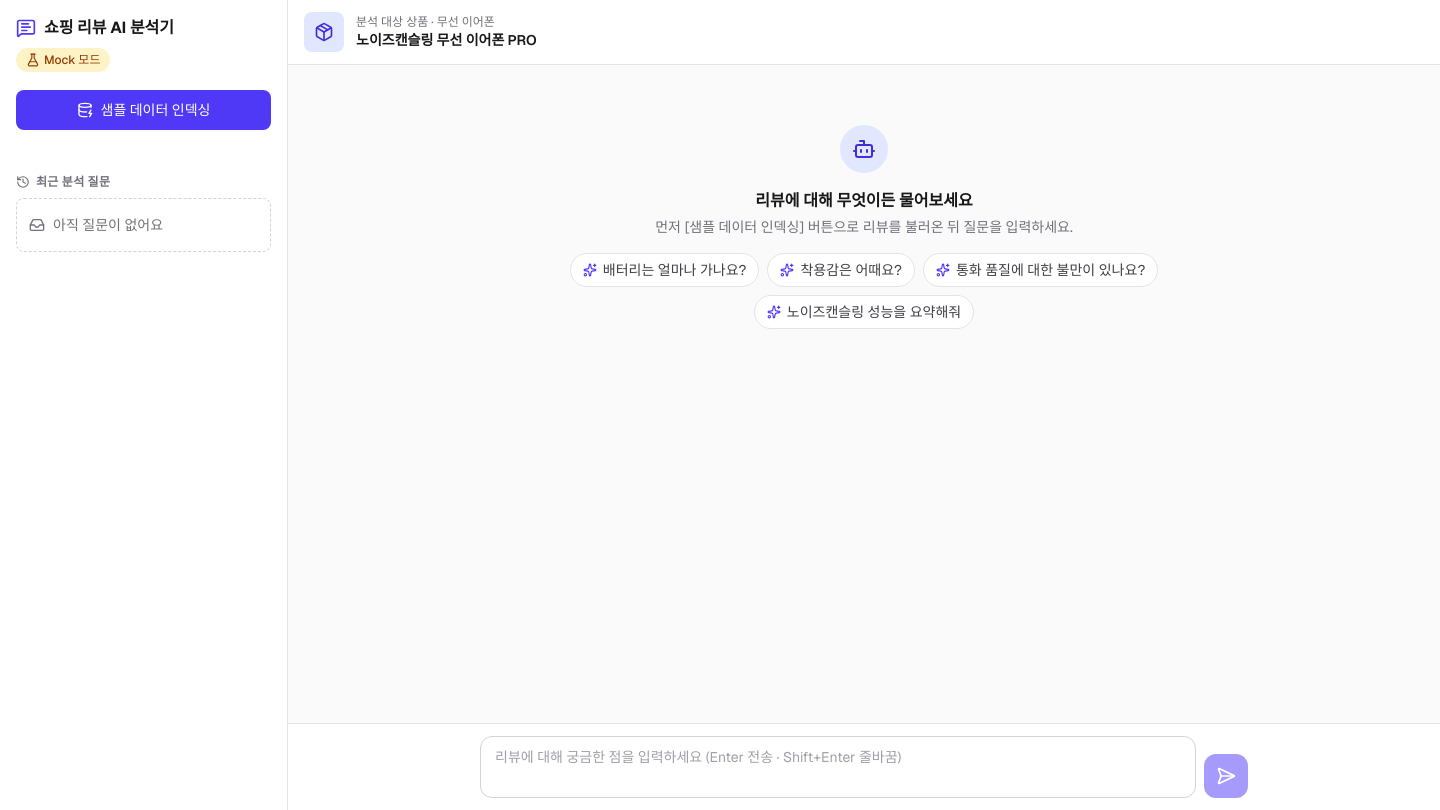
Test: 질문 입력과 전송 › 인덱싱 전에 전송하면 안내를 보여주고 요청하지 않으며 입력은 유지한다
Expected: the text "Mock 모드" is shown, [16, 48, 110, 72]
Type "배터리" into the text box named "질문 입력". click: [838, 767]
box: [480, 736, 1196, 798]
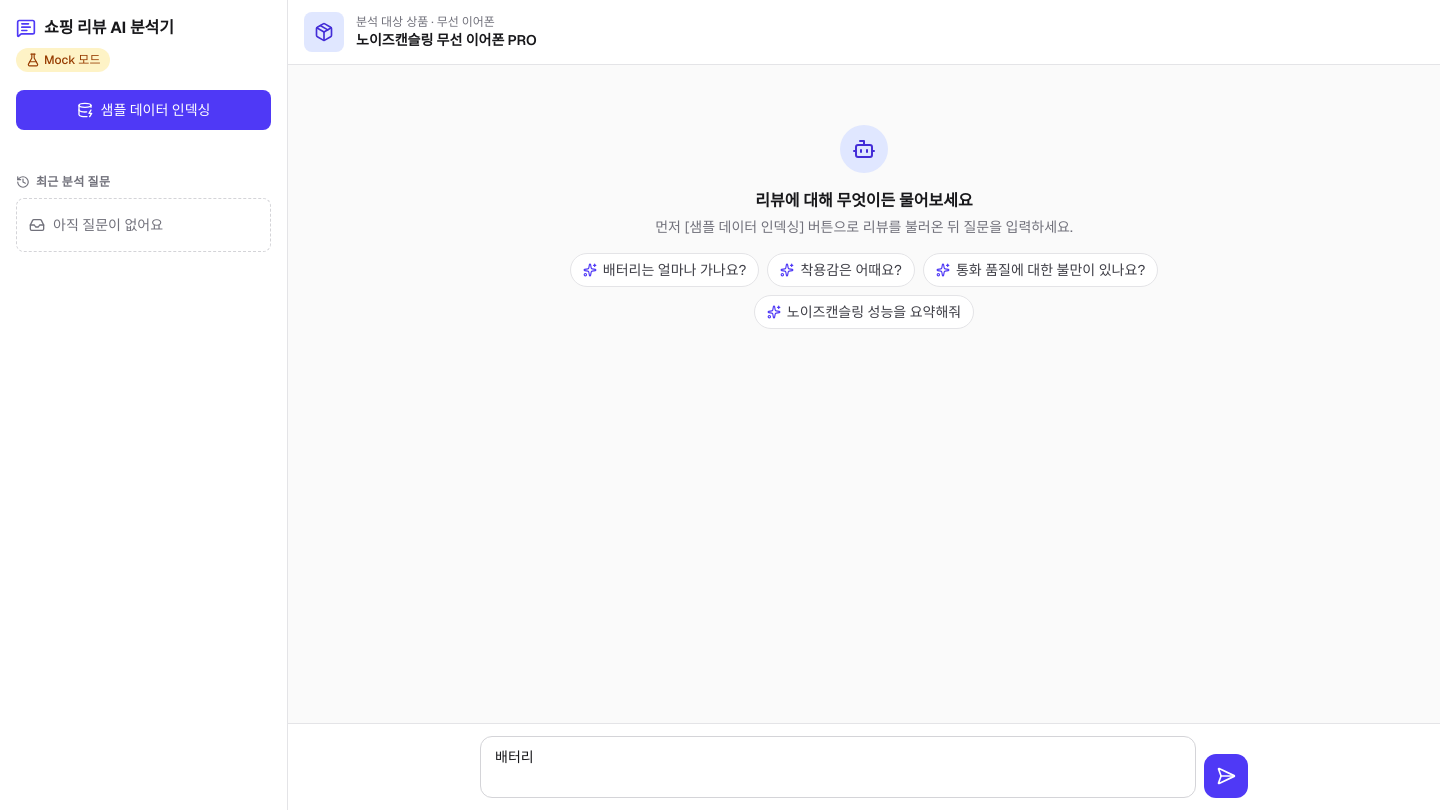
Click the button named "질문 전송". click: [1226, 776]
box: [1204, 754, 1248, 798]
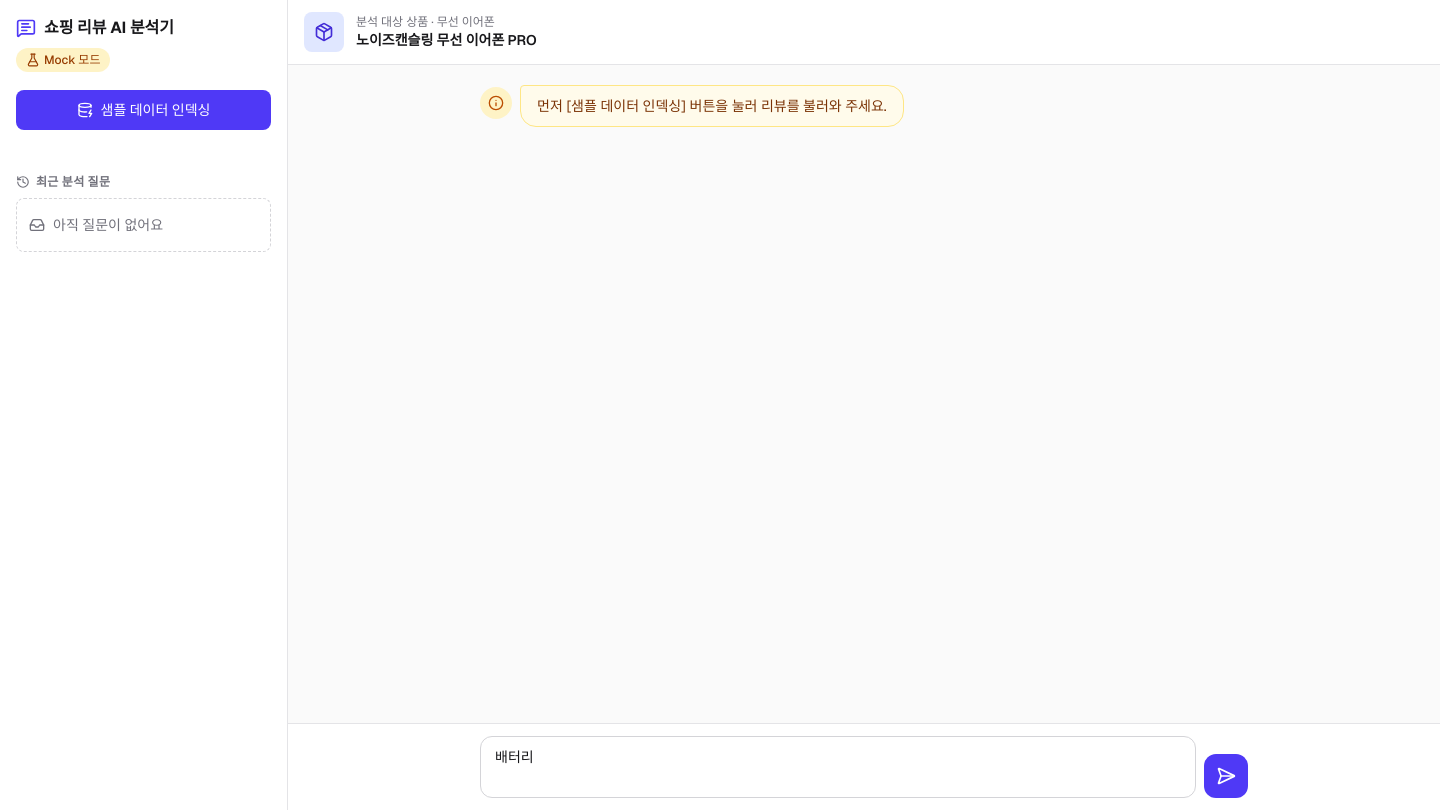
Expected: the text "먼저 [샘플 데이터 인덱싱] 버튼을 눌러 리뷰를 불러와 주세요." is shown, [520, 85, 904, 127]
